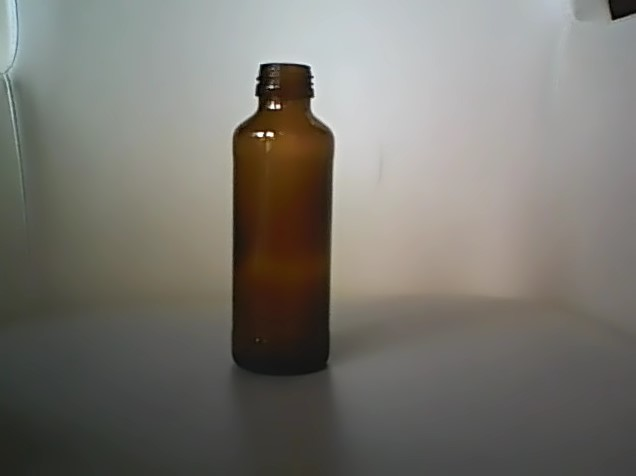Glass: (227, 59, 339, 383)
